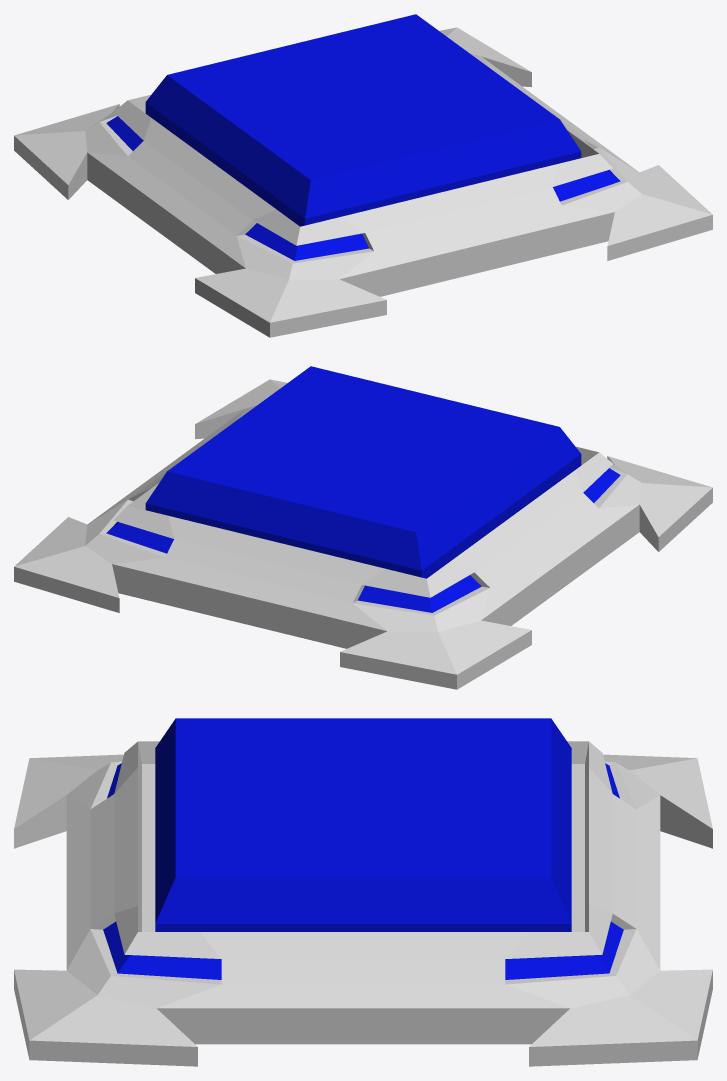
File: button.fbx
The picture shows the model from 3 angles, top to bottom: view 1: azimuth 30°, elevation 25°; view 2: azimuth 150°, elevation 25°; view 3: azimuth 270°, elevation 25°; orthographic projection. The views are drawn at different scales.
Visible parts, largest first — view 1: Cube.001; view 2: Cube.001; view 3: Cube.001.
Part boxes in pixels (left/top/right/bottom): Cube.001: left=14, top=14, right=712, bottom=337; Cube.001: left=14, top=366, right=712, bottom=689; Cube.001: left=14, top=718, right=712, bottom=1066.
Bounding box in the file's own units: 95.77 × 18.34 × 95.77.
